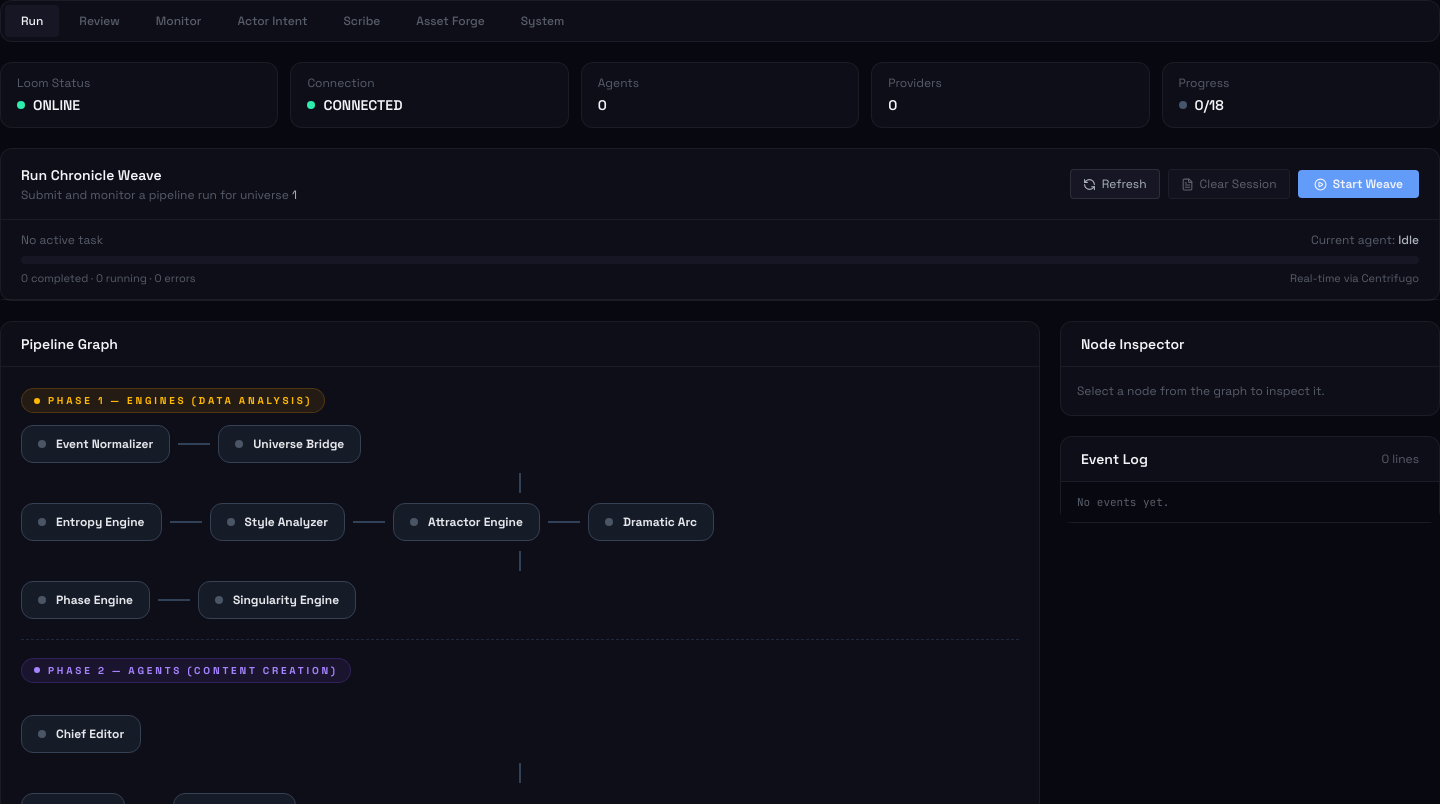
LoomOps › đổi tab: click Review hiển thị nội dung Review, ẩn nội dung Run
Step 1. Click the tab "Review" → coordinates (100, 21), box [63,5,136,37]
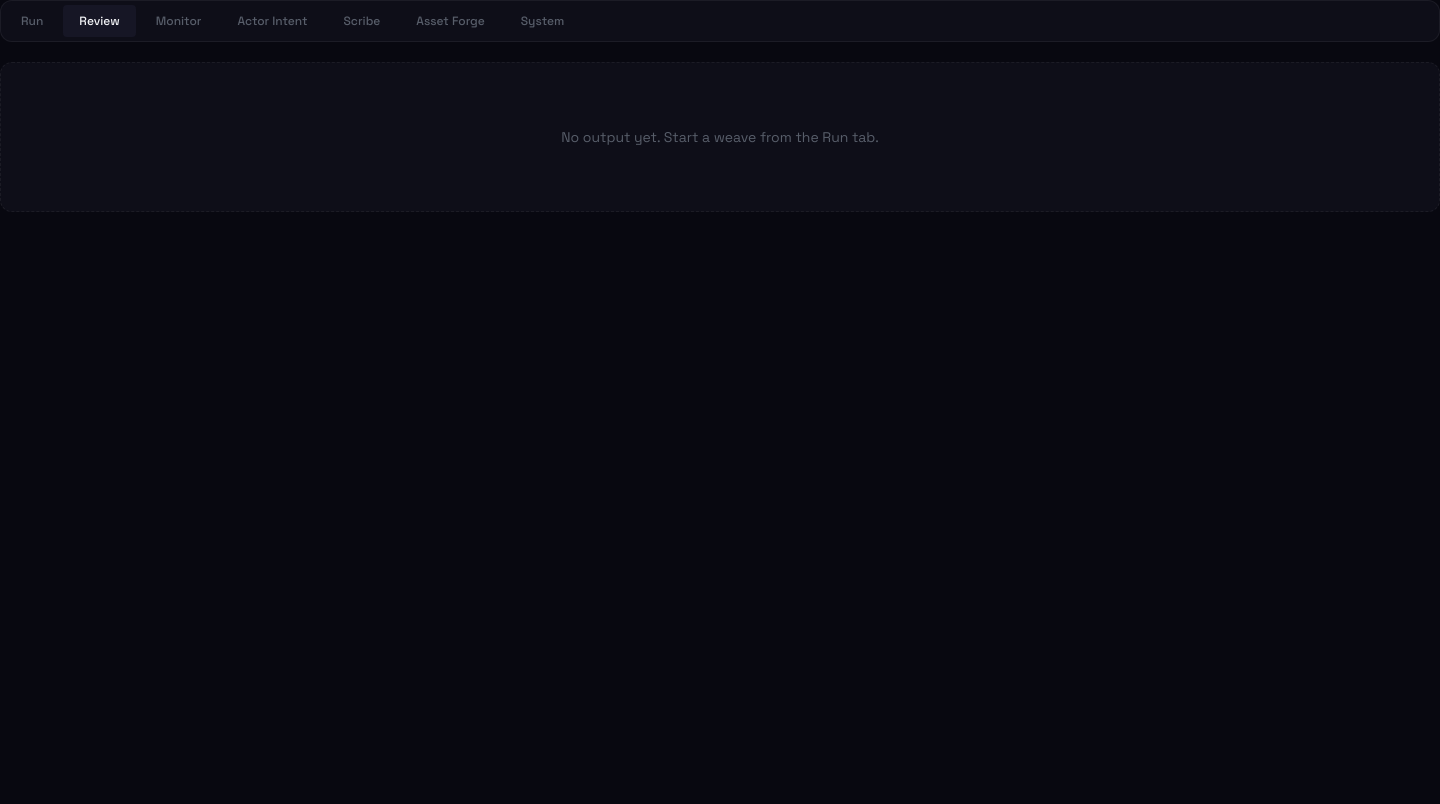
Result: the text "No output yet. Start a weave from the Run tab." is shown at [0,62,1439,212]
Result: the heading "Run Chronicle Weave" is gone
